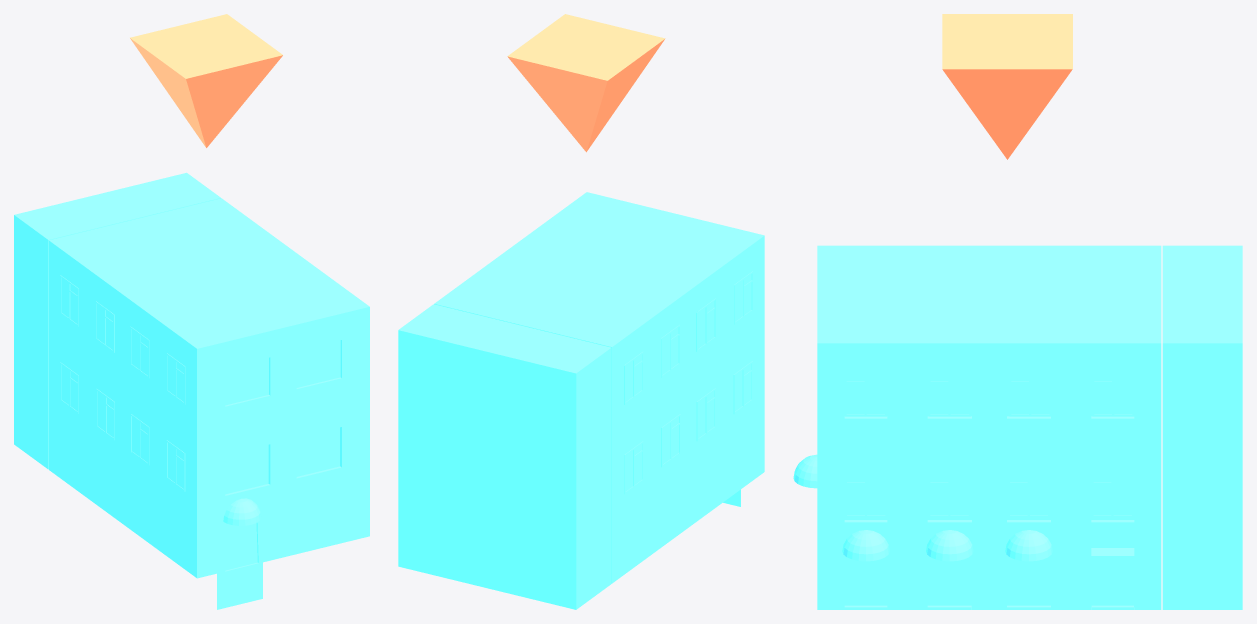
3 views of the same model, side by side, from view 1: azimuth 30°, elevation 25°; view 2: azimuth 150°, elevation 25°; view 3: azimuth 270°, elevation 25° (orthographic). The views are drawn at different scales.
Parts seen in each view (by area): view 1: subject, fire-mark; view 2: subject, fire-mark; view 3: subject, fire-mark.
Part boxes in pixels (bbox=[...]): subject: bbox=[14, 172, 369, 609]; fire-mark: bbox=[130, 14, 282, 147]; subject: bbox=[398, 192, 764, 609]; fire-mark: bbox=[507, 14, 665, 152]; subject: bbox=[793, 245, 1242, 609]; fire-mark: bbox=[942, 14, 1072, 159].
Bounding box in the file's own units: 8.69 × 21.21 × 15.24.
